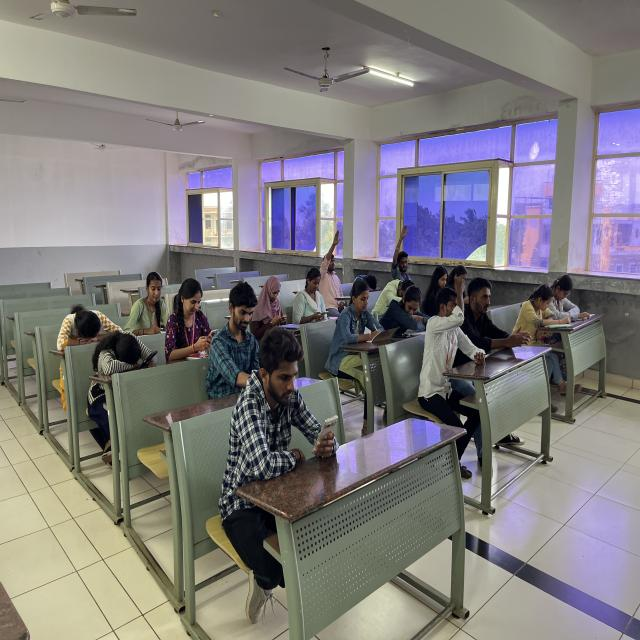Hand Rising: (318, 228, 349, 295), (386, 216, 416, 276)
Reading: (514, 273, 570, 353), (546, 258, 595, 331)
Sleeping: (37, 282, 129, 344), (67, 324, 142, 399), (387, 283, 427, 338), (369, 273, 413, 309), (349, 262, 383, 297)
Using Phone: (236, 332, 342, 484), (167, 276, 219, 366), (296, 262, 336, 328), (254, 263, 292, 329)
Writing: (336, 273, 390, 382)
